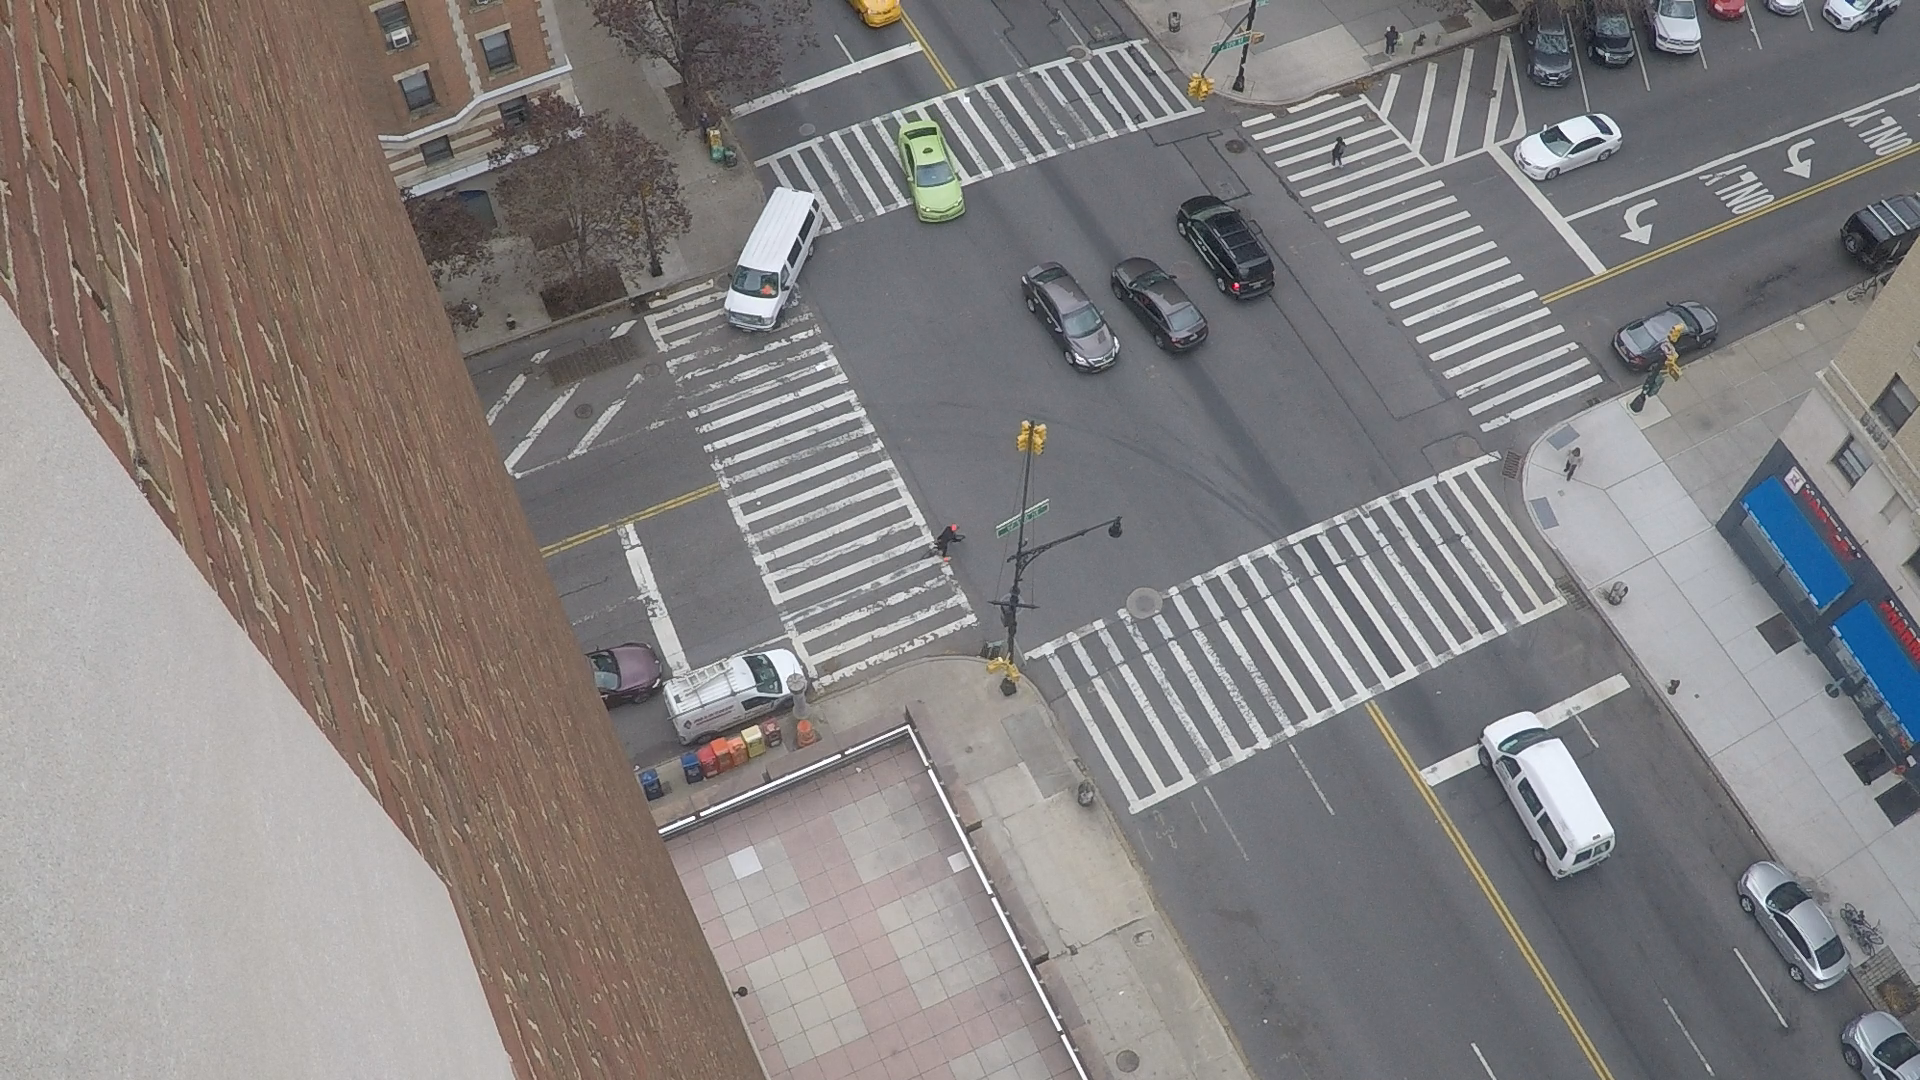Car: (843, 0, 870, 26), (945, 144, 955, 169), (1760, 0, 1764, 5), (1643, 0, 1644, 9), (1704, 0, 1705, 7)
